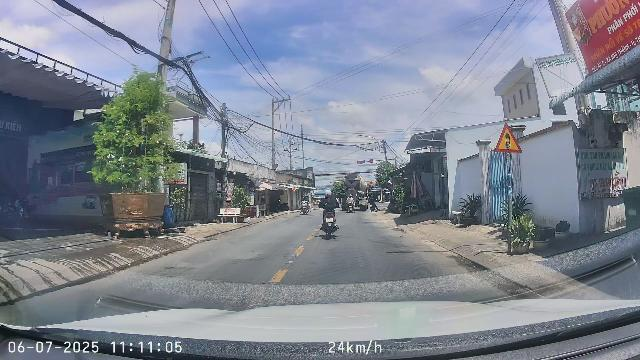209-giao-nhau-co-tin-hieu-den: (495, 123, 522, 153)
